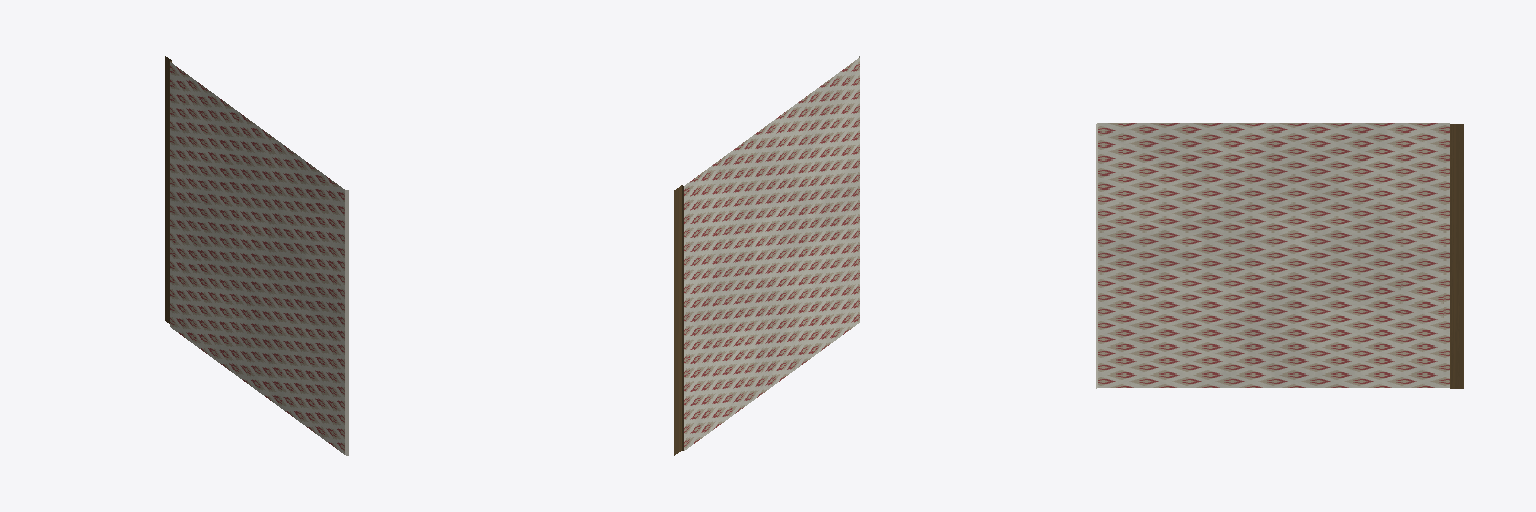
The picture shows the model from 3 angles: view 1: azimuth 30°, elevation 25°; view 2: azimuth 150°, elevation 25°; view 3: azimuth 270°, elevation 25°; orthographic projection.
Visible parts, largest first — view 1: Plane; view 2: Plane; view 3: Plane.
Boxes of the visible parts, x1=… form: Plane: x1=165, y1=56, x2=348, y2=455; Plane: x1=674, y1=56, x2=859, y2=455; Plane: x1=1096, y1=123, x2=1463, y2=388.
Bounding box in the file's own units: 0.0202 × 2 × 2.52.
Materials: 1 (1 with a texture image).